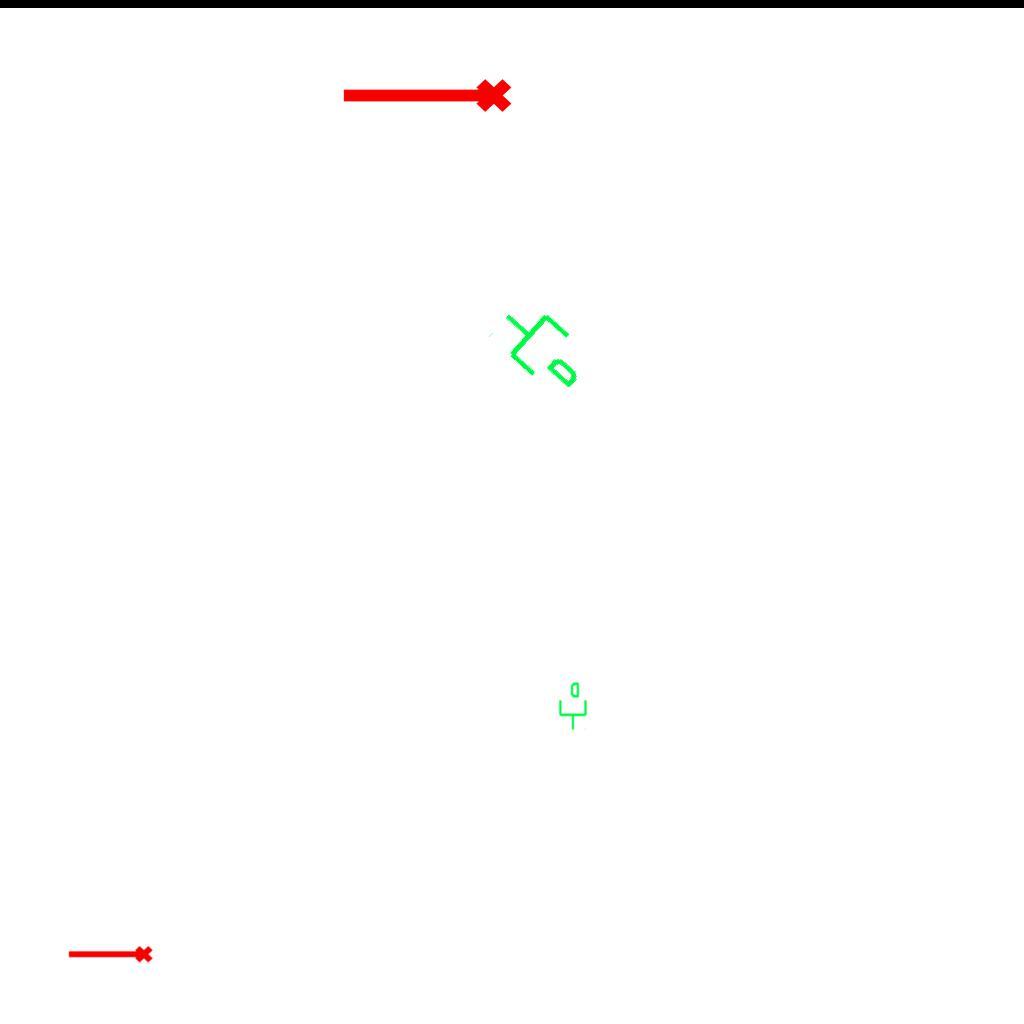ASR_Ansaugoeffnung: (338, 75, 514, 121), (66, 944, 154, 967)
Datenanschluss_einfach: (483, 286, 604, 406), (555, 681, 589, 731)
